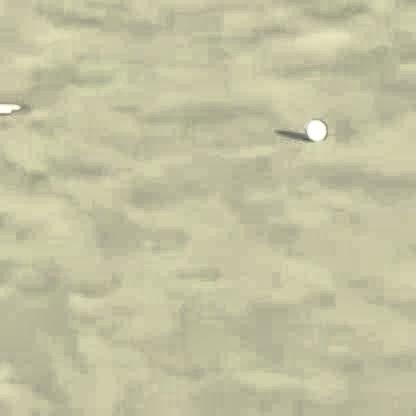golfball: (304, 114, 323, 138)
